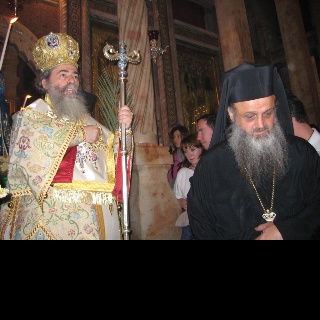without_mask: (233, 94, 274, 138), (197, 118, 214, 150), (183, 146, 201, 165), (173, 130, 181, 148)
